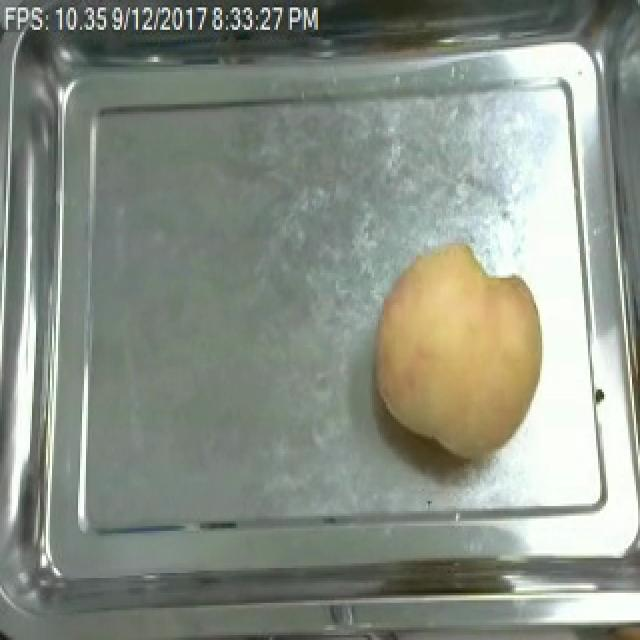Fruit: (366, 236, 552, 461)
